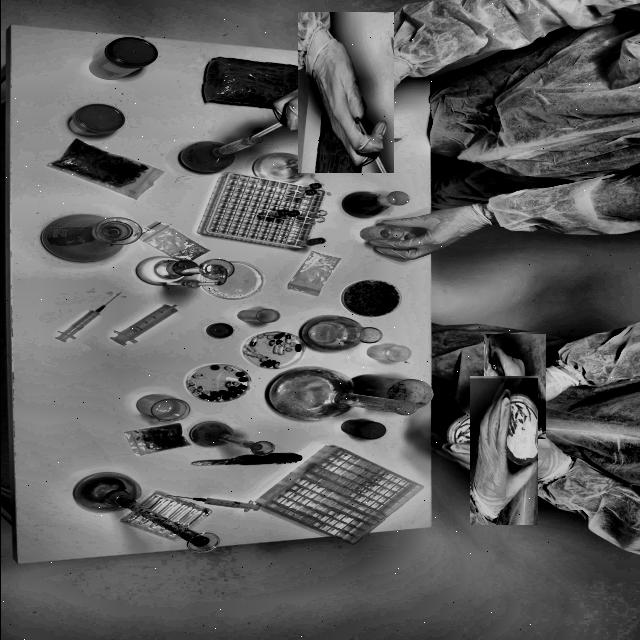gloved: (281, 28, 410, 157), (448, 396, 558, 504), (362, 191, 488, 266), (472, 344, 556, 428)
